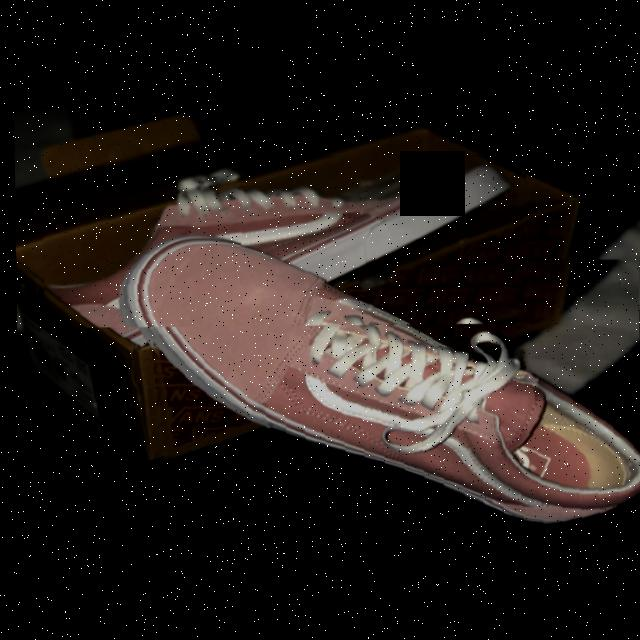shoe: (132, 224, 640, 552), (34, 139, 532, 345)
